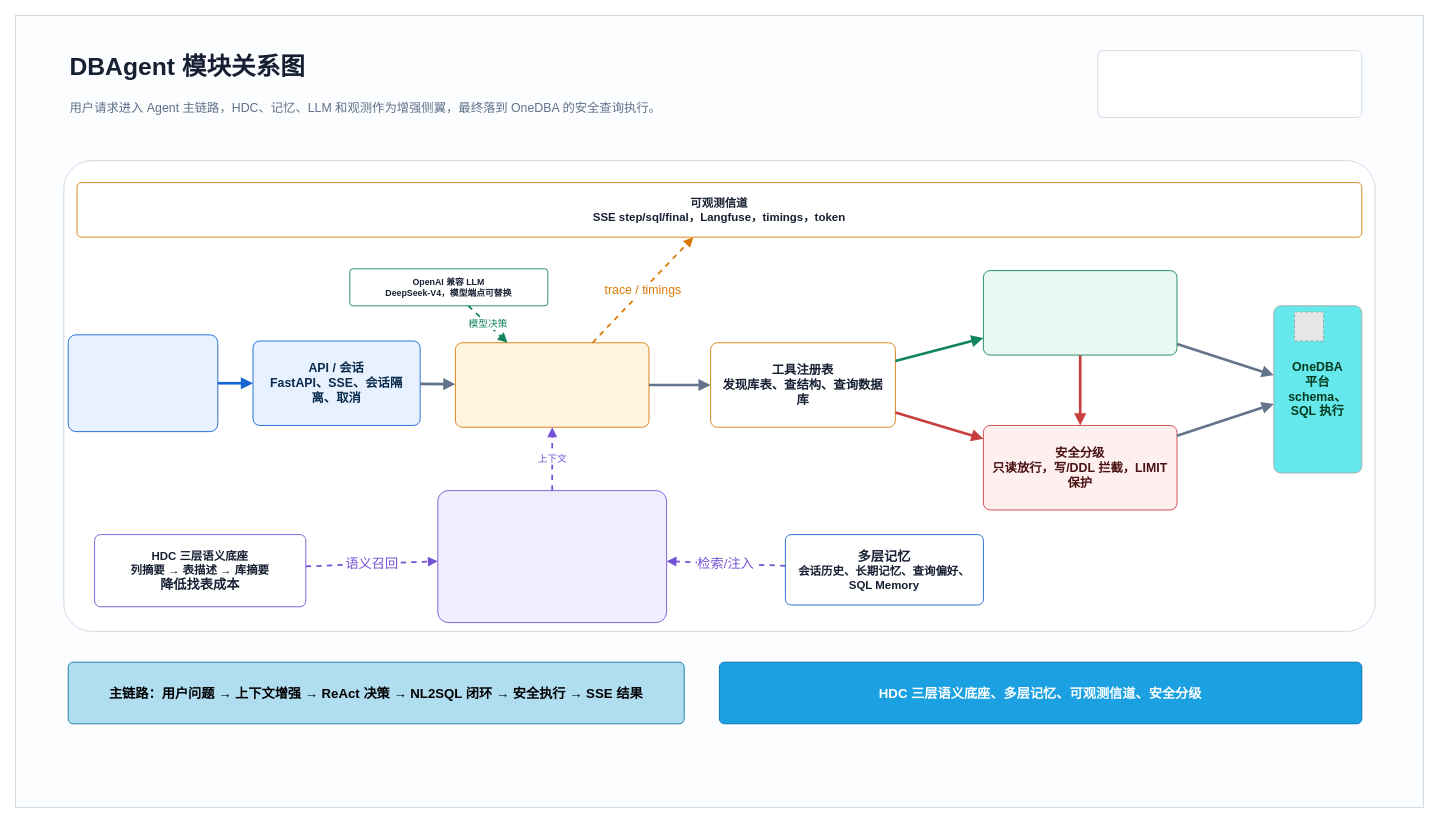
Some shapes in this 1439 by 823 pixel diagram are drawn without their labels. Grey dashed boxes stand in for pictures. The box of each missing label's shape, as (x1, y1, x2, y2) in pixels:
NL2SQL 闭环 生成 → 验证 → 修复: (983, 270, 1177, 355)
ReAct Agent LLM 决策 → 工具调用 → 观察反馈: (455, 342, 649, 427)
一句话定位 OneDBA 上的自然语言查数 Agent: (1097, 50, 1362, 117)
上下文增强 把可复用知识压缩进本轮 Agent 输入: (437, 490, 667, 623)
用户 自然语言查数、追问、探索数据库: (67, 334, 218, 432)
